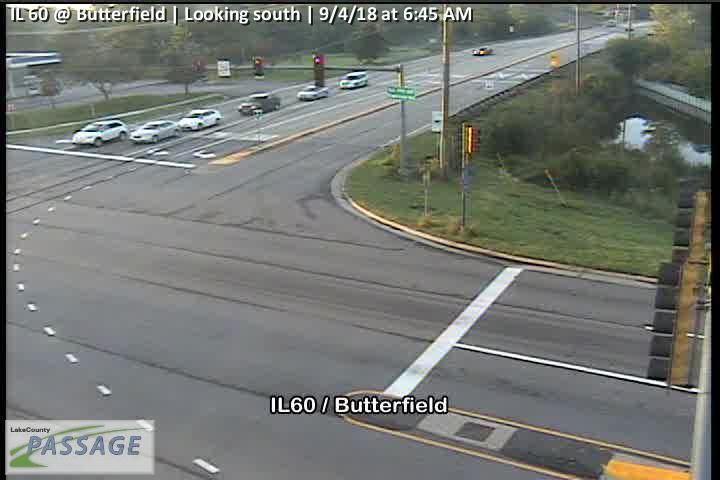SUV: (338, 71, 368, 90)
Sedan: (69, 119, 127, 148), (130, 120, 179, 145), (177, 109, 222, 134), (237, 90, 280, 115), (297, 83, 328, 101), (472, 46, 494, 55)
